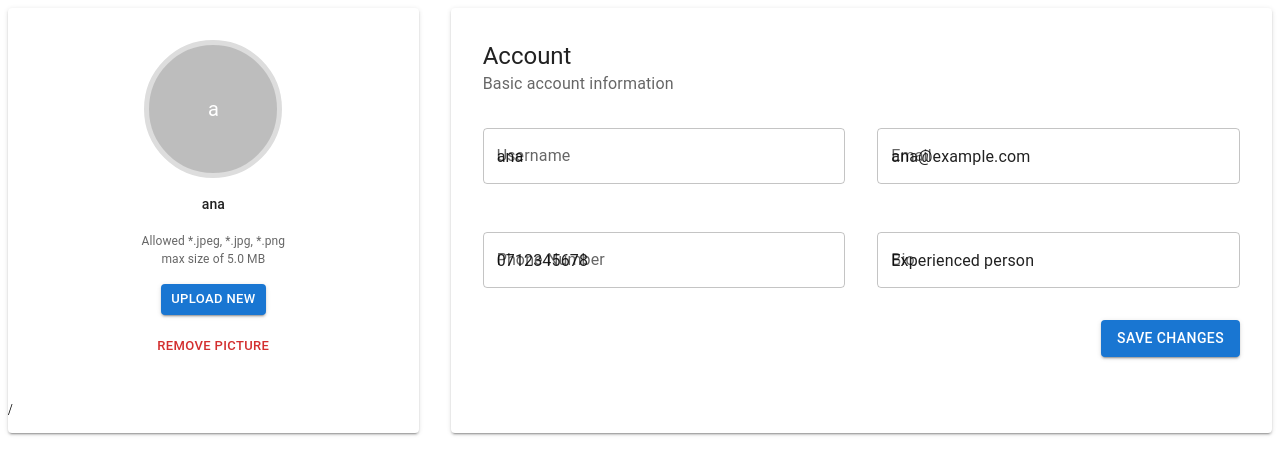
Test: <UserForm /> › requires Username
This screenshot has width=1280, height=463.
Step 1. Clear the field labelled "Username" → (664, 156), box [483,128,845,184]
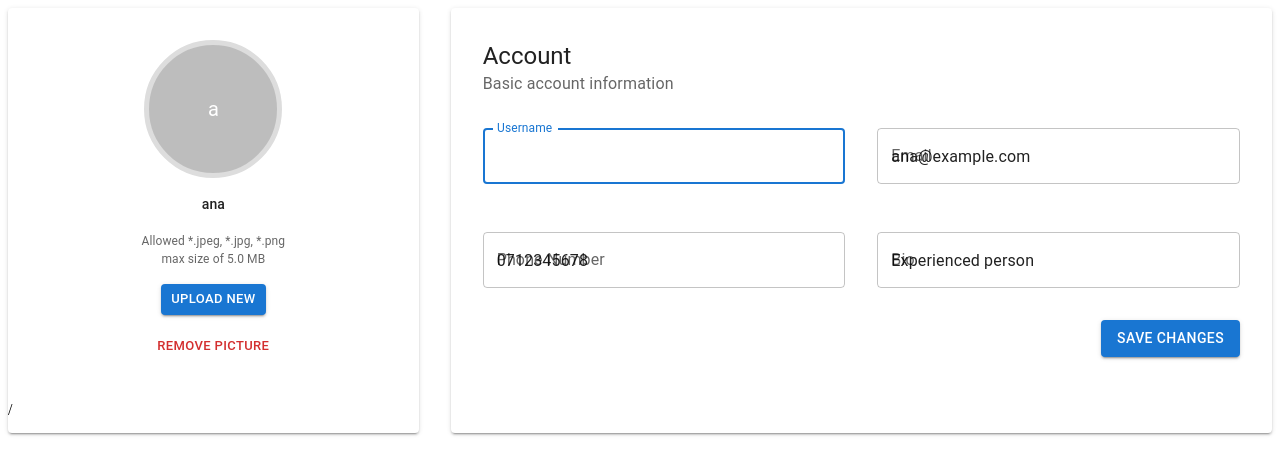
Step 2. Press Tab
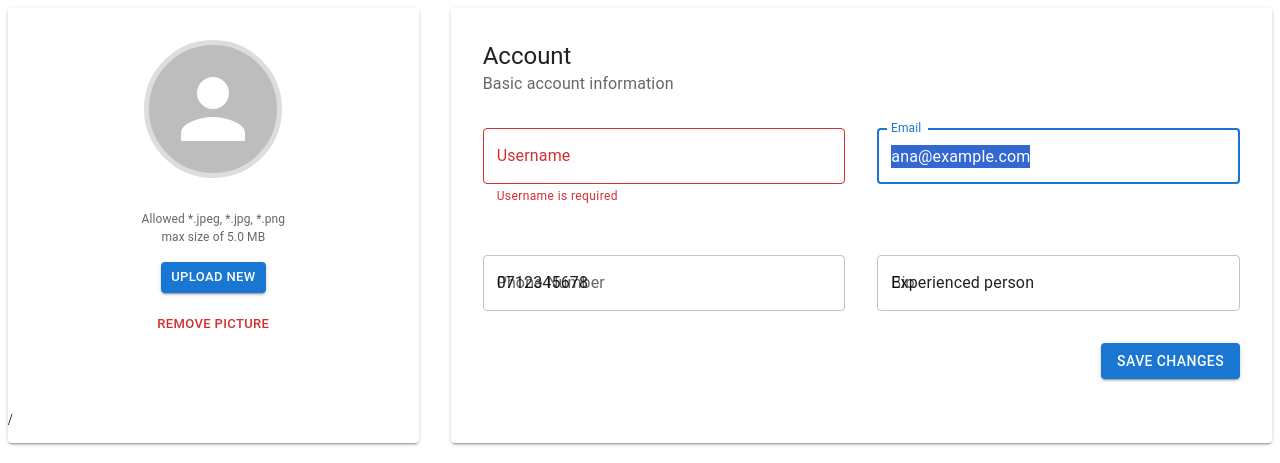
Expected: the text "Username is required" is shown, [497,189,618,203]
